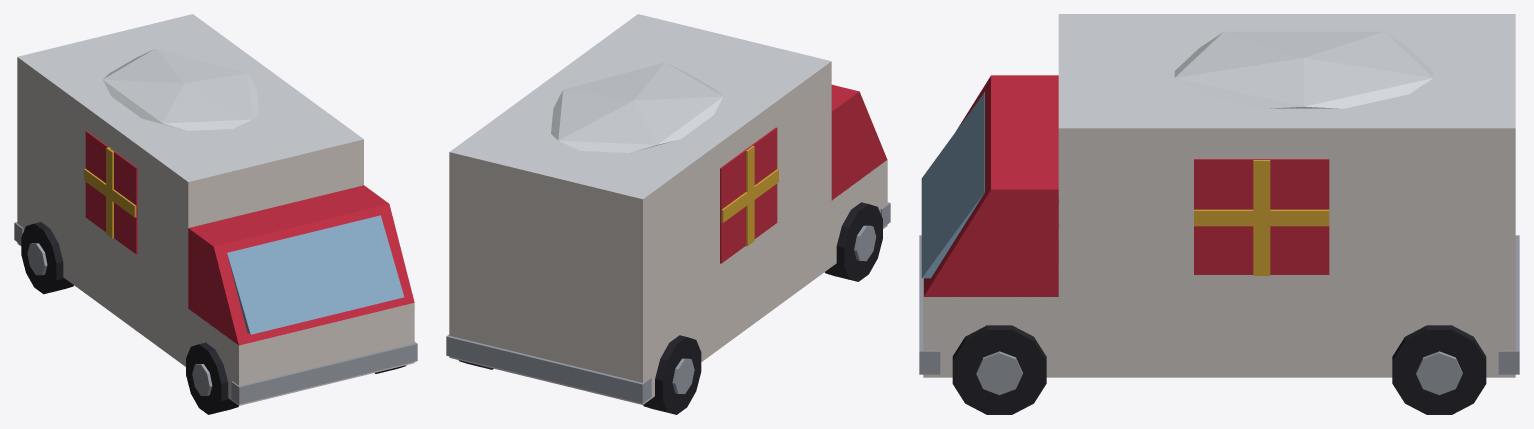
The model's file is DeliveryVan_Body.glb.
3 renders of one model, left to right at view 1: azimuth 30°, elevation 25°; view 2: azimuth 150°, elevation 25°; view 3: azimuth 270°, elevation 25°, orthographic. The views are drawn at different scales.
Parts seen in each view (by area): view 1: DeliveryVan_Body; view 2: DeliveryVan_Body; view 3: DeliveryVan_Body.
Boxes of the visible parts, x1,y1,x2,y2 form: DeliveryVan_Body: (14, 14, 417, 414); DeliveryVan_Body: (446, 14, 890, 414); DeliveryVan_Body: (919, 14, 1519, 414).
Size of the model in its own units: 7.1 by 7.71 by 14.2.
